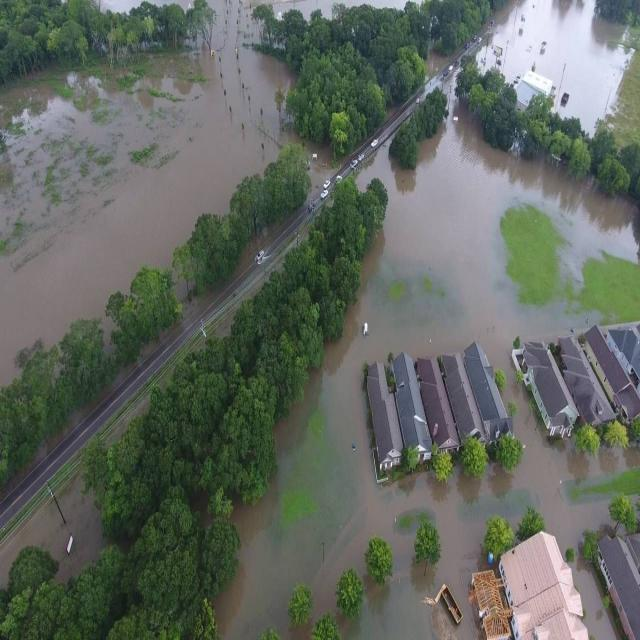flood: (211, 120, 640, 640), (0, 0, 297, 384), (478, 0, 634, 130)
house: (496, 531, 589, 640), (581, 323, 640, 417), (523, 339, 579, 438), (559, 335, 616, 424), (392, 352, 434, 464), (598, 533, 640, 640), (365, 359, 404, 473), (465, 340, 511, 434), (418, 354, 460, 452), (441, 351, 485, 444), (515, 70, 554, 100)
